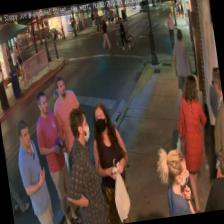person: (169, 75, 218, 214), (86, 99, 136, 224), (54, 105, 106, 224), (31, 90, 77, 224), (49, 74, 93, 208), (11, 116, 54, 224), (200, 66, 224, 204), (154, 144, 194, 217), (169, 29, 197, 110)
